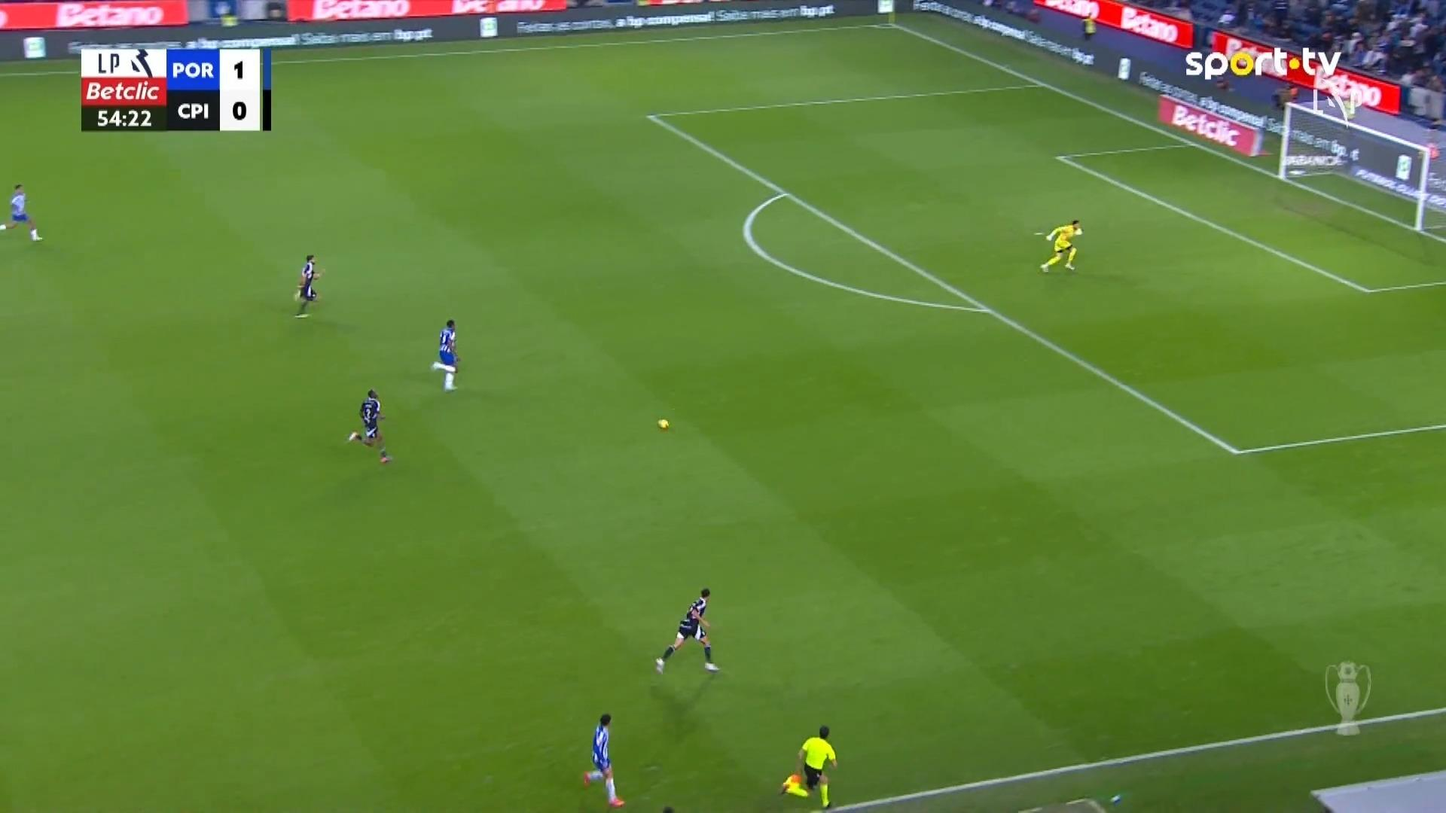ball: (657, 418, 668, 429)
goalkeeper: (1039, 218, 1082, 273)
player: (654, 586, 719, 674), (581, 712, 625, 806), (346, 388, 392, 463), (0, 182, 43, 242), (430, 318, 460, 391), (293, 254, 322, 317)
referee: (780, 724, 837, 813)
